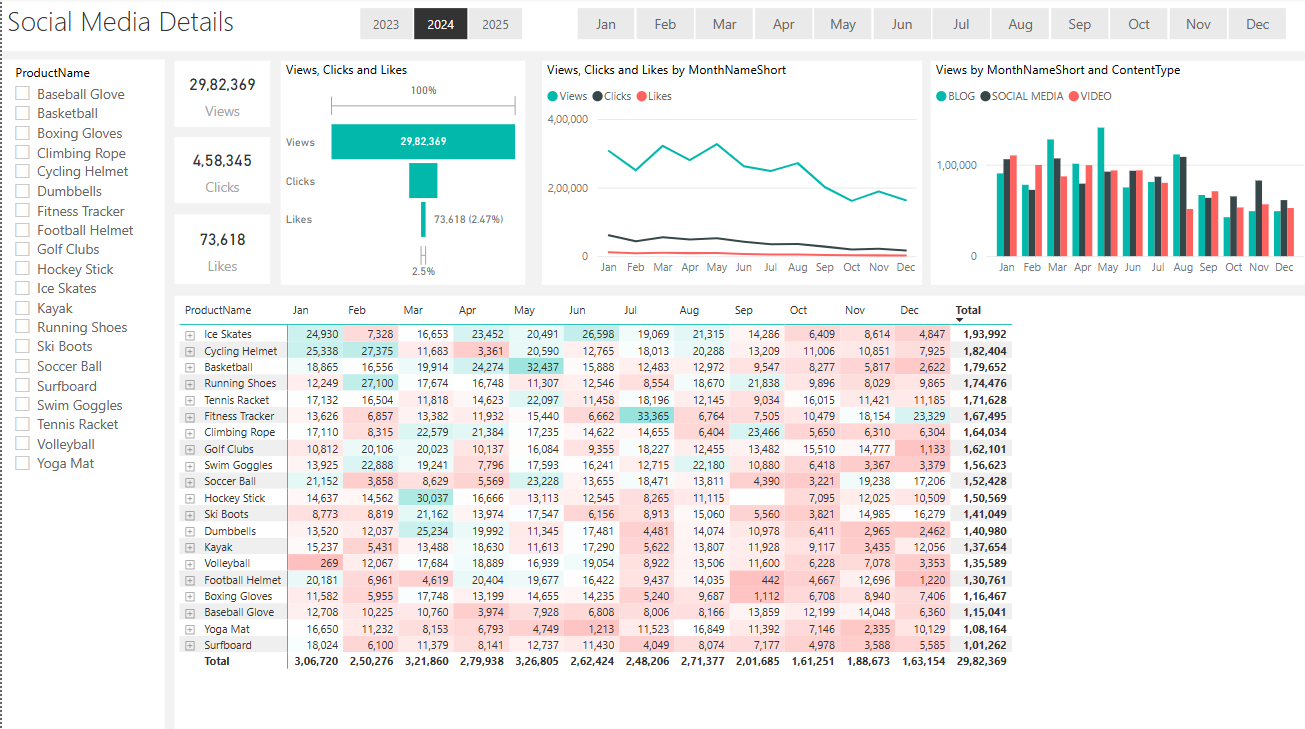

What the dashboard file says about the page in this screenshot:
{"tool":"powerbi","page":{"name":"Social Media Details","canvas":[1280,720],"ordinal":2},"visuals":[{"type":"textbox","box":[0,0,1280,52.6],"z":0},{"type":"slicer","fields":{"Values":["dim_products.ProductName"]},"box":[0,61.6,159.5,658.5],"z":1000},{"type":"lineChart","fields":{"Y":["_Calculations.Views","_Calculations.Clicks","_Calculations.Likes"],"Category":["Calendar.MonthNameShort"]},"box":[528.5,61.9,371.6,218.8],"z":2000},{"type":"funnel","fields":{"Y":["_Calculations.Views","_Calculations.Clicks","_Calculations.Likes"]},"box":[272.5,61.9,239.5,218.8],"z":3000},{"type":"card","fields":{"Values":["_Calculations.Views"]},"box":[168.3,61.9,93.9,65],"z":4000},{"type":"card","fields":{"Values":["_Calculations.Clicks"]},"box":[168.3,137.3,93.9,65],"z":5000},{"type":"card","fields":{"Values":["_Calculations.Likes"]},"box":[168.3,212.6,93.9,68.1],"z":6000},{"type":"slicer","fields":{"Values":["Calendar.MonthNameShort"]},"box":[536.8,4.1,743.2,44.4],"z":7000},{"type":"slicer","fields":{"Values":["Calendar.Year"]},"box":[324.1,4.1,208.5,44.4],"z":8000},{"type":"pivotTable","fields":{"Rows":["dim_products.ProductName","fact_engagement.ContentType"],"Values":["_Calculations.Views"],"Columns":["Calendar.MonthNameShort"]},"box":[168.3,292.1,1110.7,428.4],"z":9000},{"type":"clusteredColumnChart","fields":{"Category":["Calendar.MonthNameShort"],"Series":["fact_engagement.ContentType"],"Y":["_Calculations.Views"]},"box":[908.4,61.9,370.6,218.8],"z":10000}]}

Visuals, with their boxes in screenshot pixels (x1, y1, x2, y2), scaled from the page's 1280x720 canvas onto the 1305x729 screenshot:
textbox: BBox(0, 0, 1304, 53)
slicer - dim_products.ProductName: BBox(0, 62, 163, 728)
lineChart - _Calculations.Views x _Calculations.Clicks: BBox(539, 63, 918, 284)
funnel - _Calculations.Views x _Calculations.Clicks: BBox(278, 63, 522, 284)
card - _Calculations.Views: BBox(172, 63, 267, 128)
card - _Calculations.Clicks: BBox(172, 139, 267, 205)
card - _Calculations.Likes: BBox(172, 215, 267, 284)
slicer - Calendar.MonthNameShort: BBox(547, 4, 1304, 49)
slicer - Calendar.Year: BBox(330, 4, 543, 49)
pivotTable - dim_products.ProductName x fact_engagement.ContentType: BBox(172, 296, 1304, 728)
clusteredColumnChart - Calendar.MonthNameShort x fact_engagement.ContentType: BBox(926, 63, 1304, 284)
